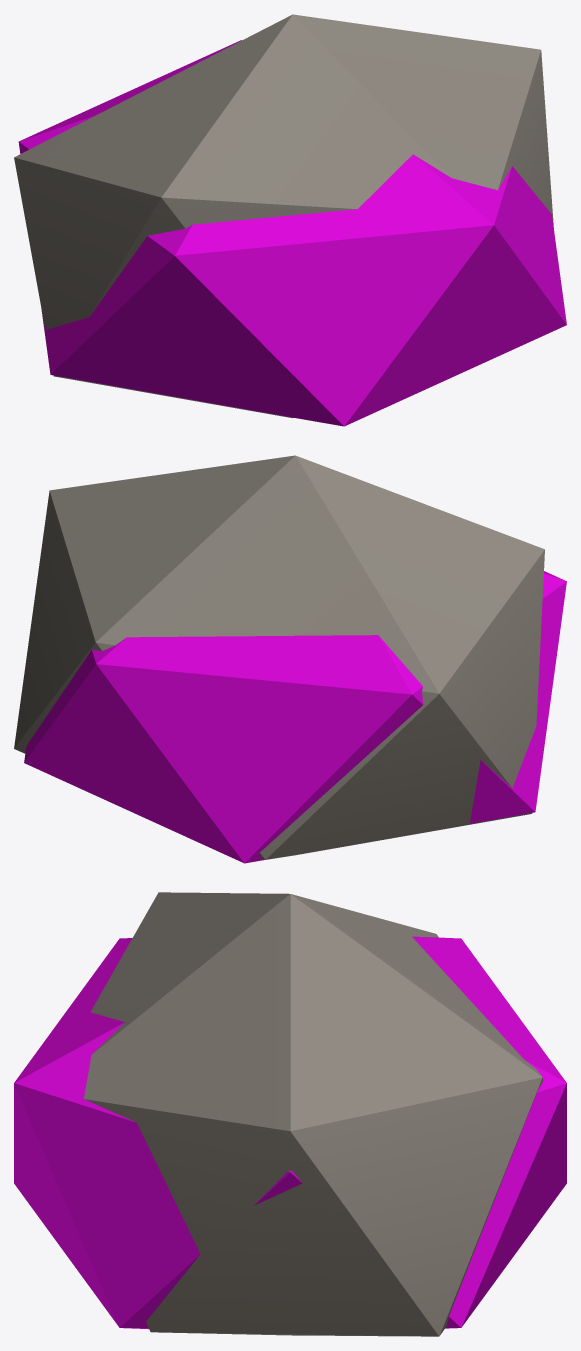
Rendered from rock_a.glb.
3 views of the same model, one above another, from view 1: azimuth 30°, elevation 25°; view 2: azimuth 150°, elevation 25°; view 3: azimuth 270°, elevation 25° (orthographic). The views are drawn at different scales.
Visible parts, largest first — view 1: COL_rock_a, rock_a; view 2: rock_a, COL_rock_a; view 3: rock_a, COL_rock_a.
Boxes of the visible parts, box(x1,y1,x2,y2) form: COL_rock_a: box(18, 40, 566, 426); rock_a: box(14, 14, 553, 418); rock_a: box(14, 455, 544, 859); COL_rock_a: box(24, 571, 566, 863); rock_a: box(84, 892, 543, 1336); COL_rock_a: box(14, 936, 566, 1329).
Size of the model in its own units: 1.67 by 1.31 by 1.49.
